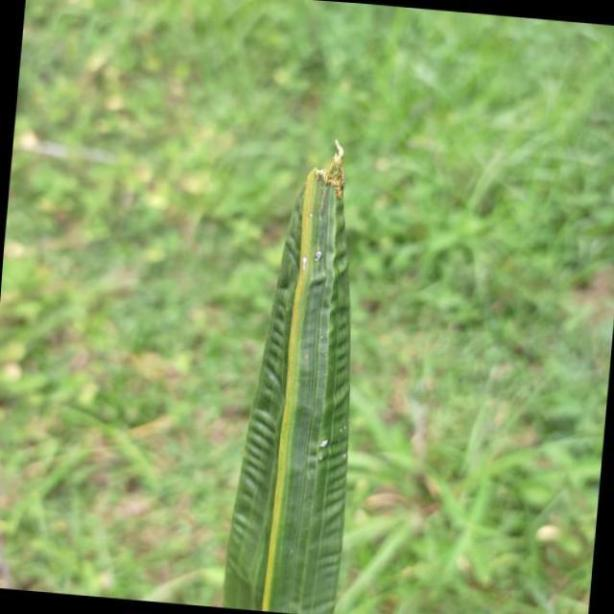Boron: (218, 139, 358, 614)
